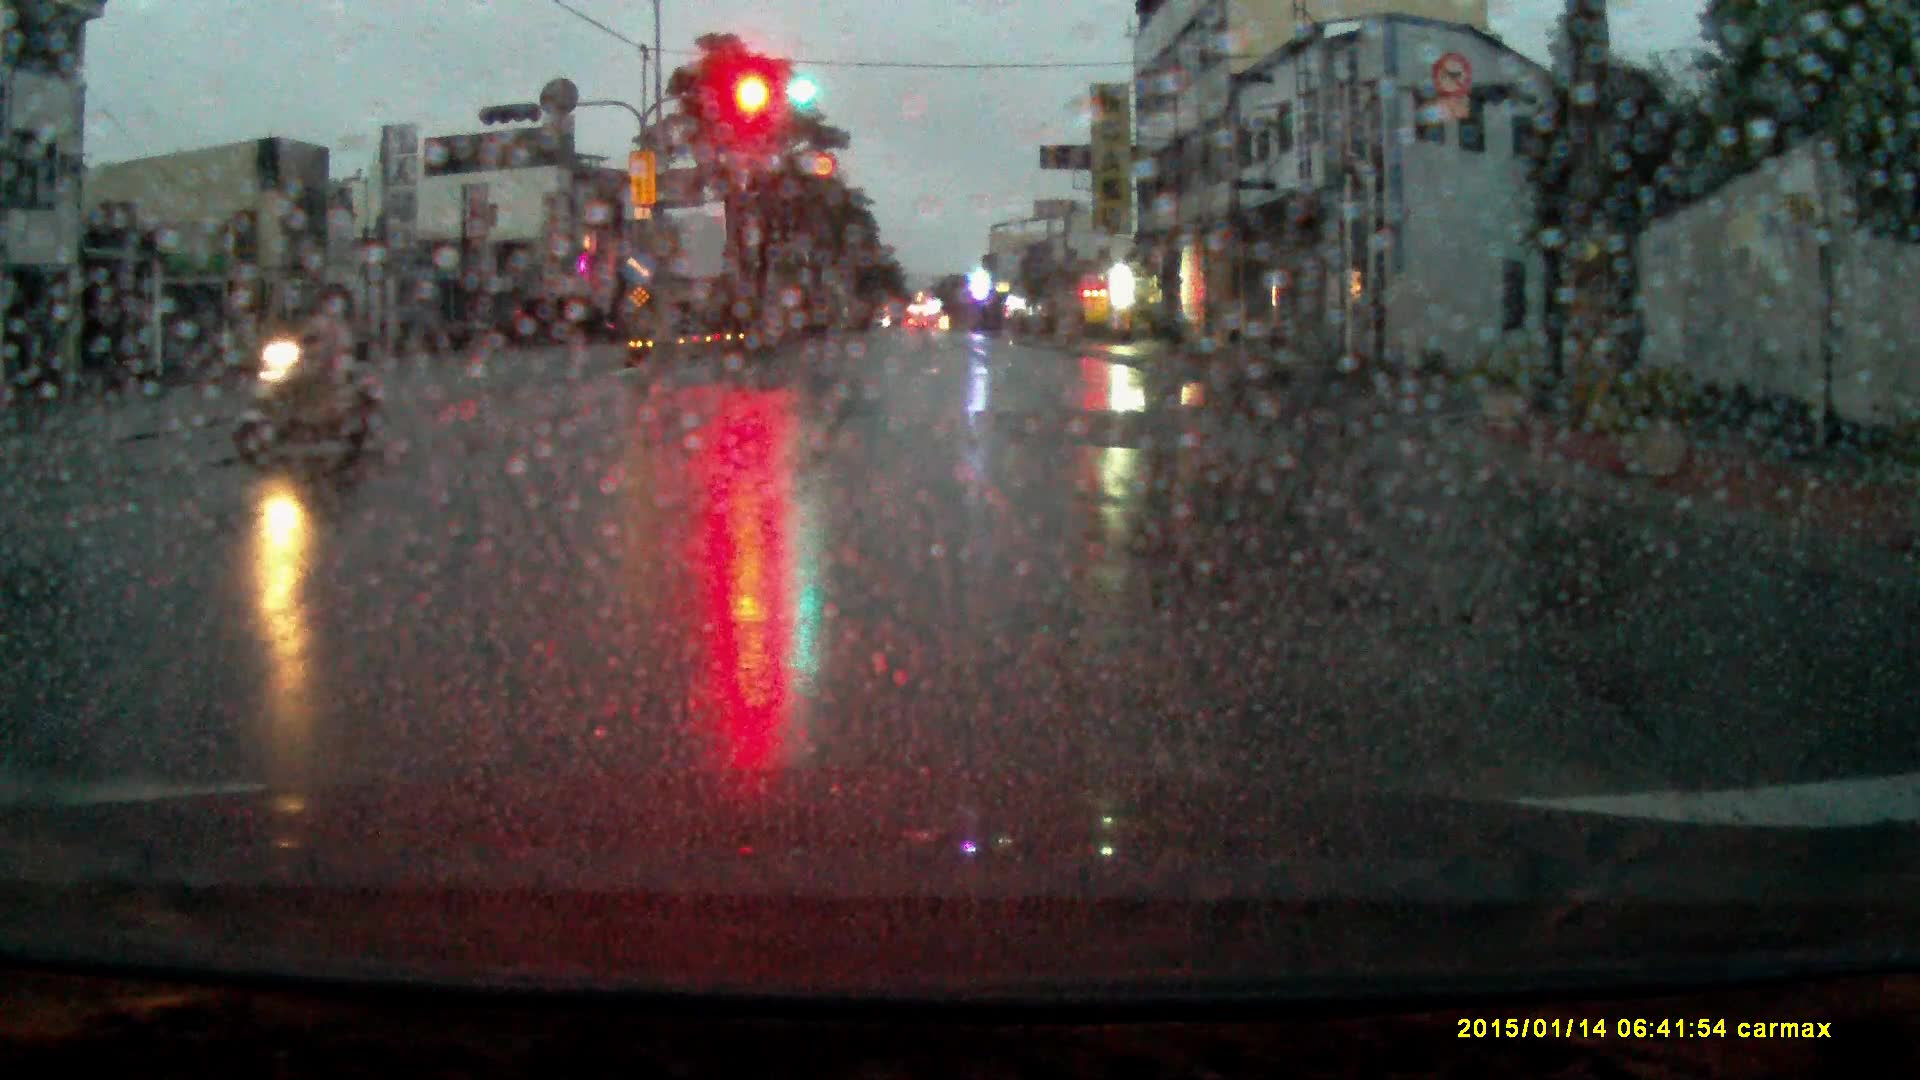rider: (229, 276, 376, 466)
